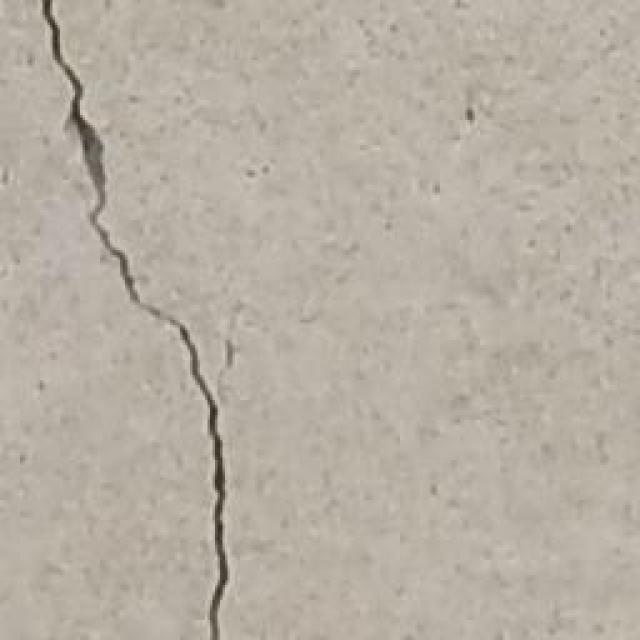concrete-crack: (40, 0, 250, 640)
